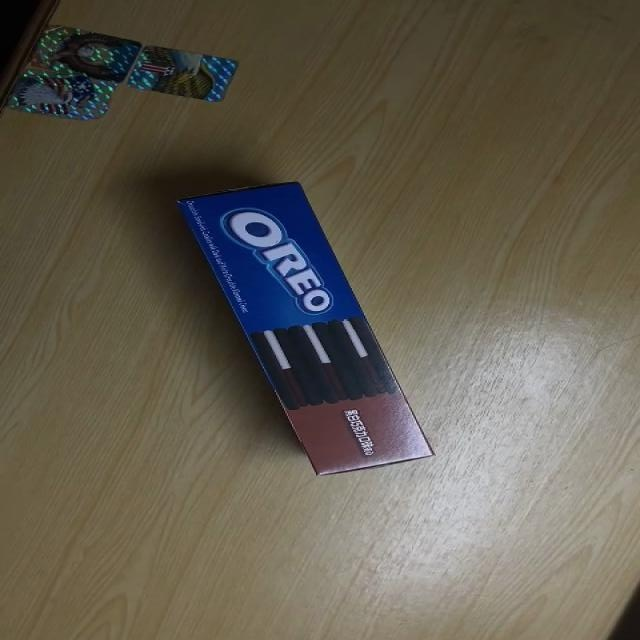Oreo: (168, 178, 436, 476)
